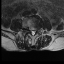CCS_normal: (32, 28, 34, 37)
LFS_stenosis: (36, 27, 38, 32)
LLS_normal: (33, 28, 35, 35)
RFS_severe_stenosis: (28, 26, 30, 33)
RLS_stenosis: (30, 28, 32, 34)
